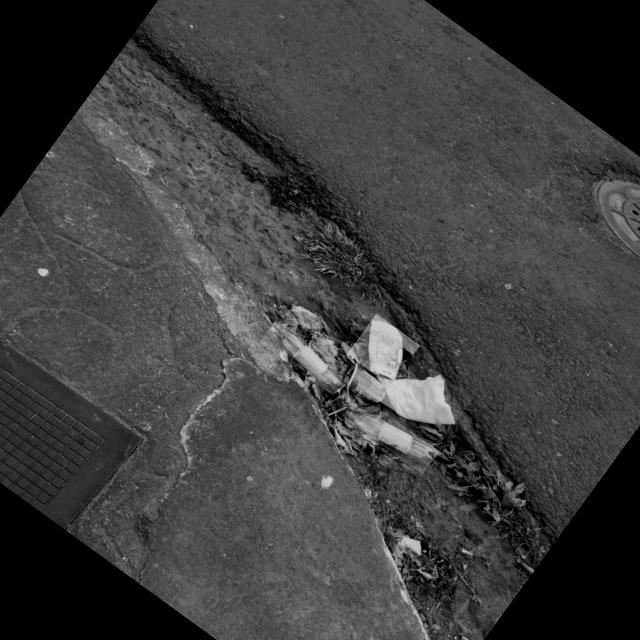Cigarette: (460, 549, 471, 556), (434, 558, 443, 564), (420, 546, 426, 553)
Clear plastic bottle: (272, 321, 343, 394), (344, 408, 434, 464)
Cup: (343, 364, 384, 405)
Food Carton: (367, 319, 401, 380)
Plastic film: (375, 374, 454, 424), (289, 305, 320, 331)
Unlabeled litter: (399, 538, 420, 557)
